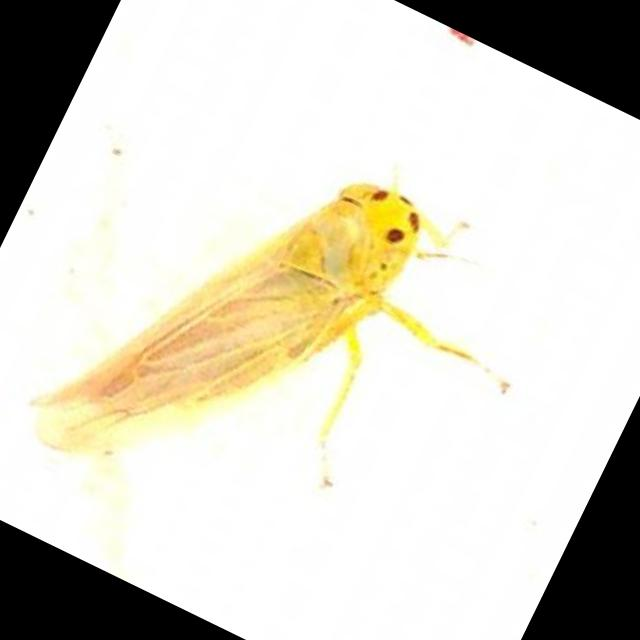green-leafhopper: (41, 96, 442, 554)
